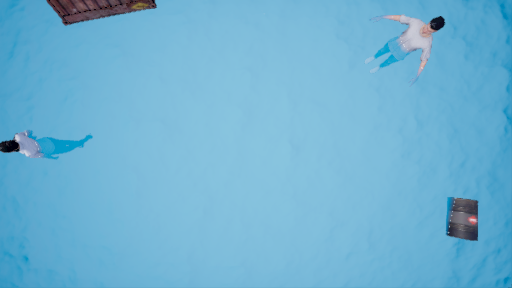person: (368, 6, 445, 92)
